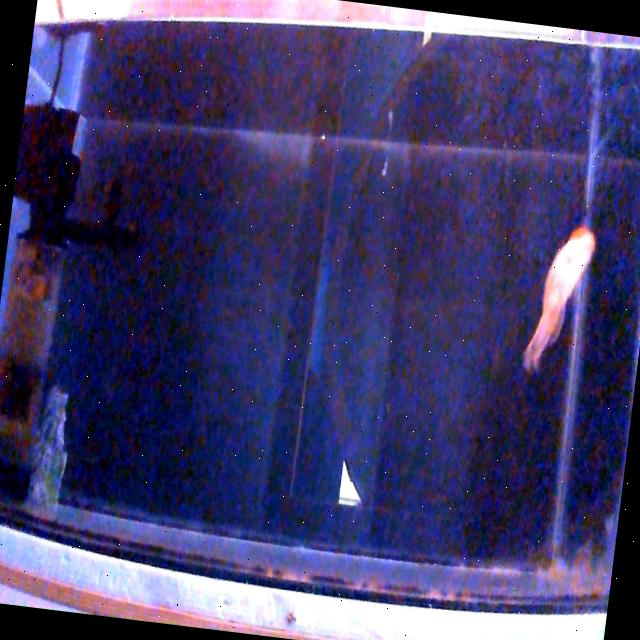fish: (517, 220, 597, 380)
